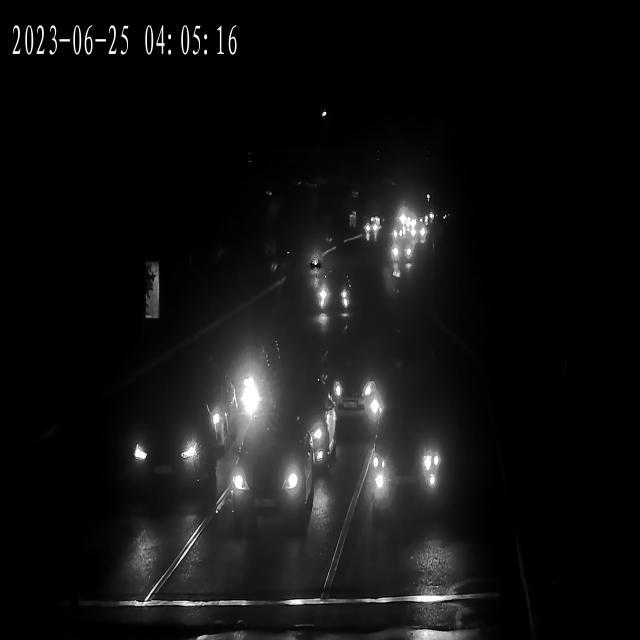Car: (118, 399, 224, 497), (209, 322, 289, 428), (363, 417, 446, 517), (241, 426, 310, 538), (314, 348, 390, 422), (317, 274, 355, 311), (388, 238, 414, 262), (407, 223, 428, 240), (408, 227, 428, 243), (389, 227, 409, 242), (360, 222, 379, 236), (264, 372, 268, 372)
